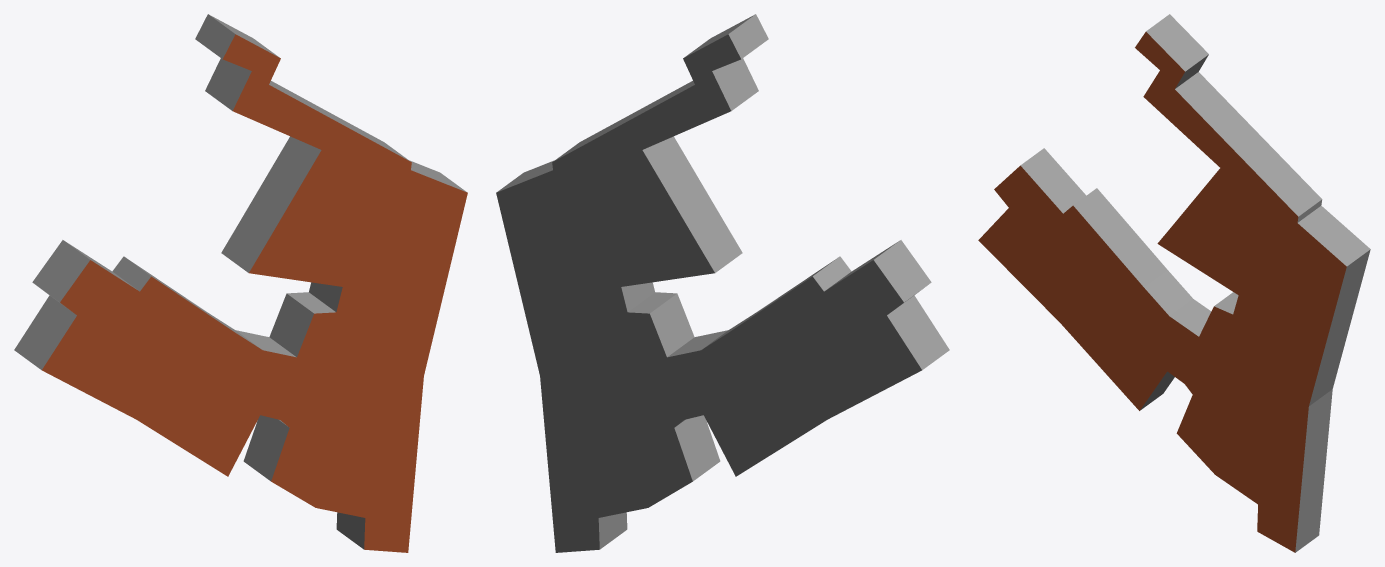
Rendered from construction_5538_assumed_A_Casa_h6m.obj.
The picture shows the model from 3 angles, left to right: view 1: azimuth 30°, elevation 25°; view 2: azimuth 150°, elevation 25°; view 3: azimuth 330°, elevation 25°; orthographic projection. The views are drawn at different scales.
Visible parts, largest first — view 1: construction_5538_assumed_A_Casa; view 2: construction_5538_assumed_A_Casa; view 3: construction_5538_assumed_A_Casa.
Boxes of the visible parts, x1,y1,x2,y2 form: construction_5538_assumed_A_Casa: (14,14,467,552); construction_5538_assumed_A_Casa: (496,14,949,552); construction_5538_assumed_A_Casa: (978,14,1370,552).
Bounding box in the file's own units: 53.5 × 67.28 × 6.
